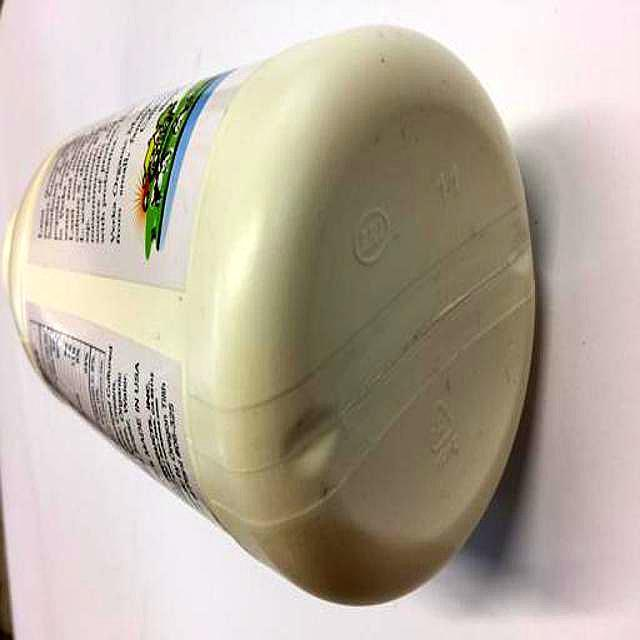Non-biodegradable: (7, 22, 542, 609)
